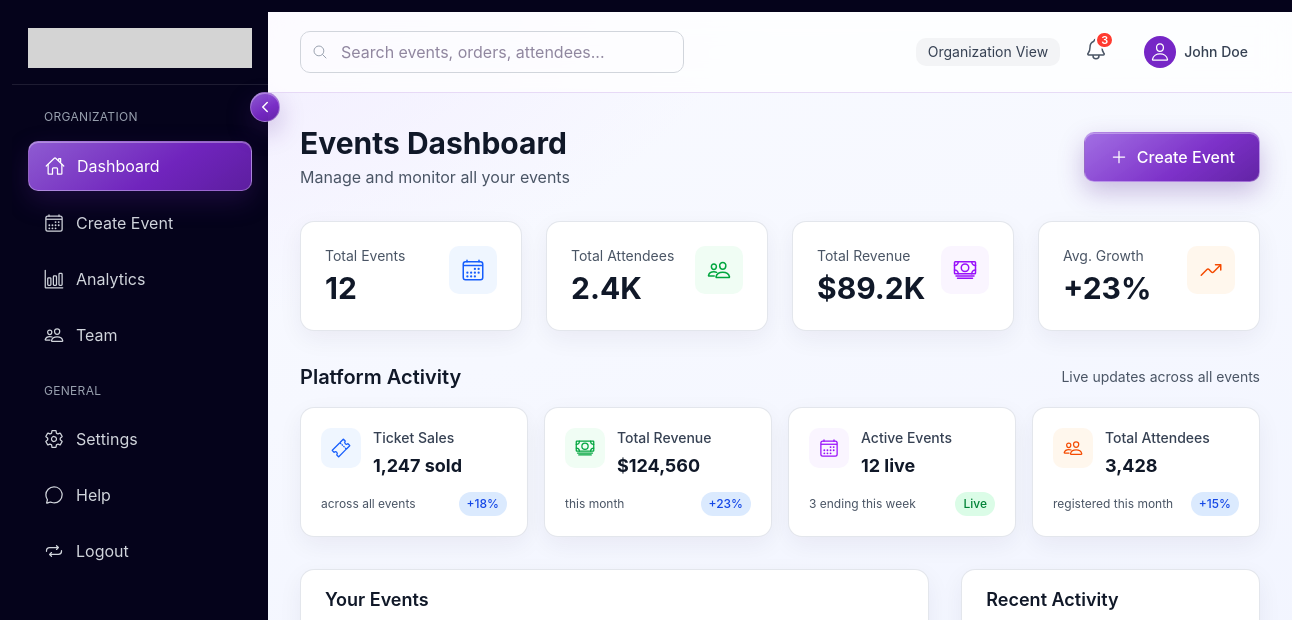
Scenario: App core flows › navigates from dashboard to event creation
Click the 2nd button "Create Event" at point(140, 223), box [28,199,252,247]
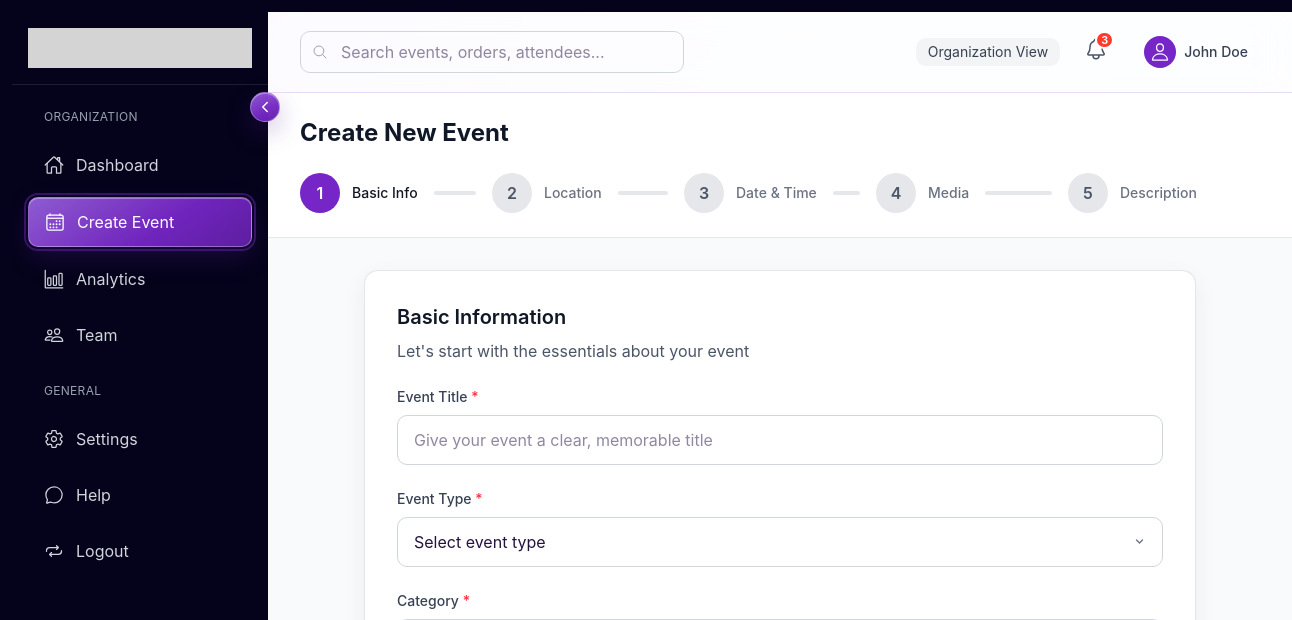
Now the heading "Create New Event" is shown, box [300,118,509,147]
